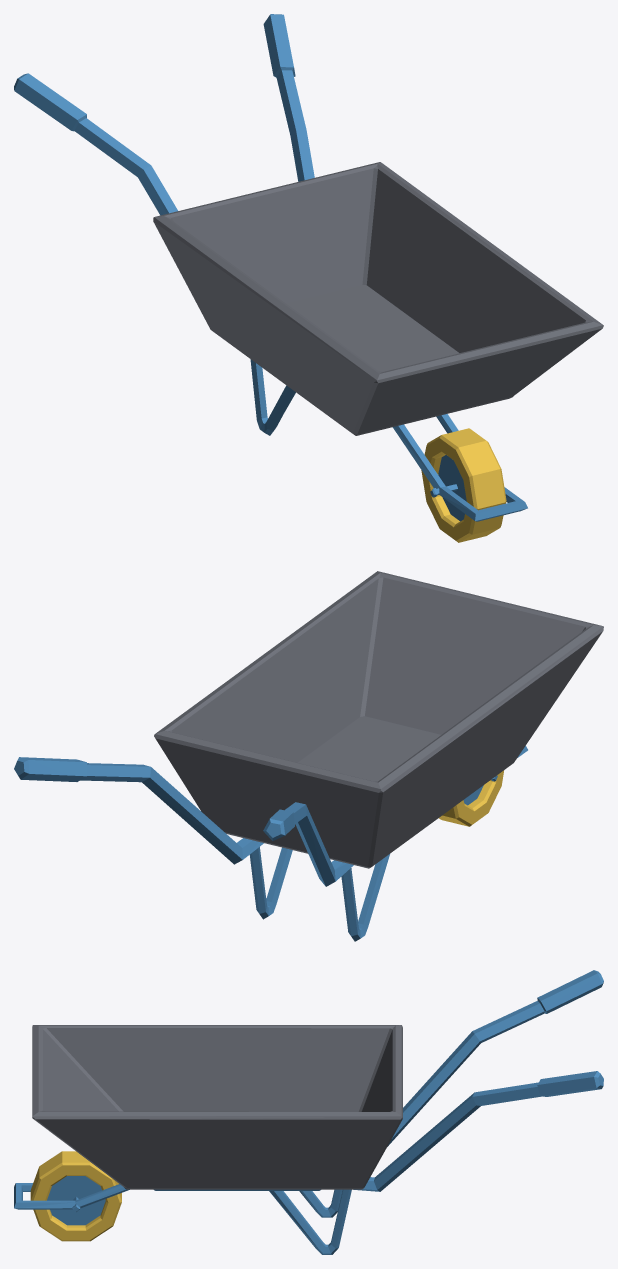
File: cart_c.gltf
3 views of the same model, one above another, from view 1: azimuth 30°, elevation 25°; view 2: azimuth 150°, elevation 25°; view 3: azimuth 270°, elevation 25° (orthographic). The views are drawn at different scales.
Visible parts, largest first — view 1: body, wheel_3, wheel_1; view 2: body, wheel_3; view 3: body, wheel_2, wheel_0.
Part boxes in pixels (box(x1,y1,x2,y2)): body: box(14, 14, 603, 542); wheel_3: box(421, 438, 473, 540); wheel_1: box(438, 455, 466, 521); body: box(14, 571, 603, 941); wheel_3: box(456, 770, 504, 824); body: box(14, 970, 603, 1254); wheel_2: box(33, 1165, 119, 1240); wheel_0: box(47, 1176, 105, 1225).
Size of the model in its own units: 0.8097 by 0.738 by 1.84.
1 material, 1 textured.
